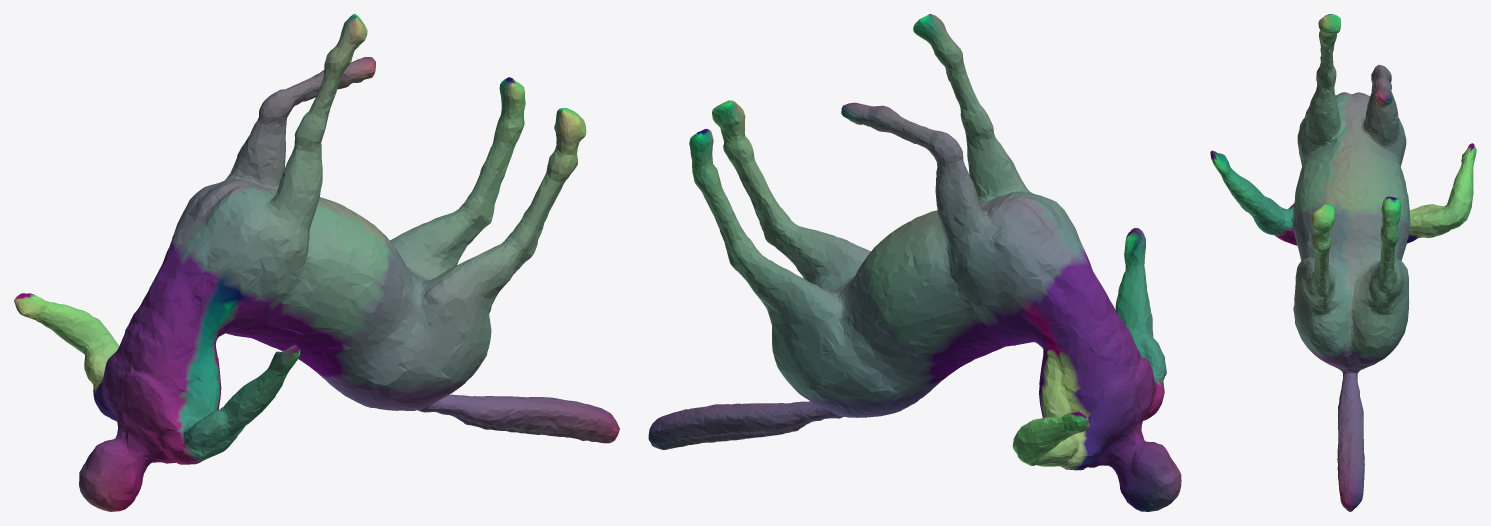
Rendered from centaur-1.off.obj.
3 views of the same model, side by side, from view 1: azimuth 30°, elevation 25°; view 2: azimuth 150°, elevation 25°; view 3: azimuth 270°, elevation 25° (orthographic). The views are drawn at different scales.
Bounding box in the file's own units: 1.3 × 1.15 × 0.7056.
